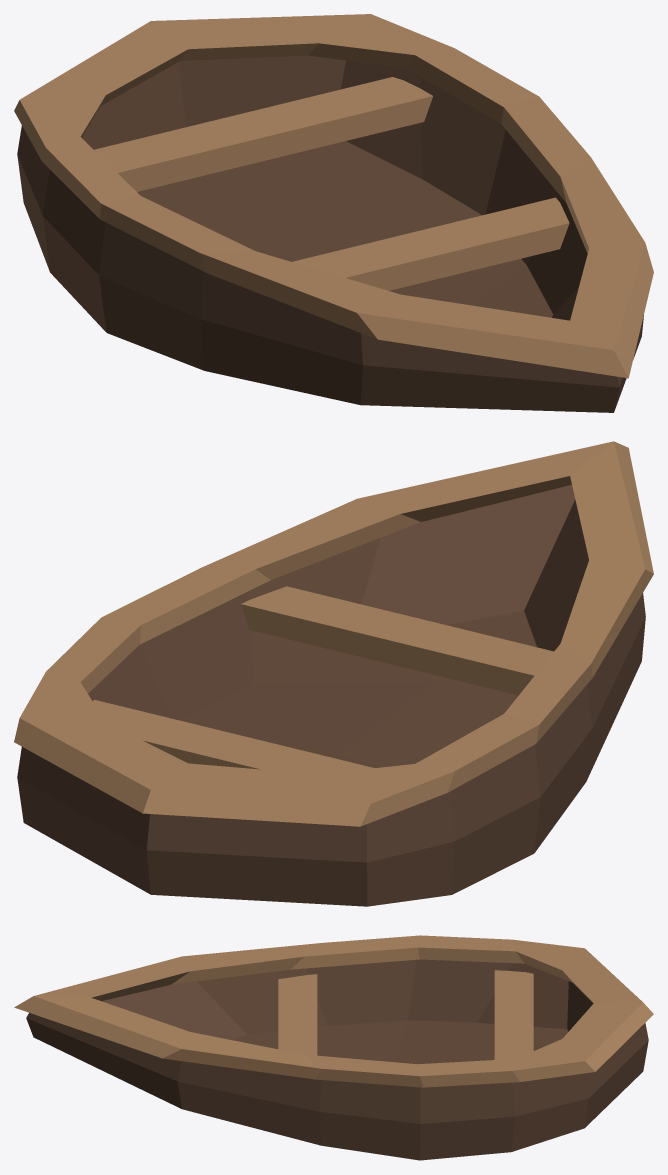
Rendered from SandalText.fbx.
The picture shows the model from 3 angles, top to bottom: view 1: azimuth 30°, elevation 25°; view 2: azimuth 150°, elevation 25°; view 3: azimuth 270°, elevation 25°; orthographic projection. The views are drawn at different scales.
Visible parts, largest first — view 1: Cube, Cube.004, Cube.002, Cube.003; view 2: Cube, Cube.004, Cube.003, Cube.002; view 3: Cube, Cube.004, Cube.002, Cube.003.
Boxes of the visible parts, x1,y1,x2,y2 form: Cube: [17, 55, 643, 412]; Cube.004: [14, 14, 653, 378]; Cube.002: [94, 77, 432, 191]; Cube.003: [292, 197, 569, 290]; Cube: [17, 485, 645, 906]; Cube.004: [14, 441, 653, 826]; Cube.003: [241, 586, 553, 695]; Cube.002: [92, 699, 374, 774]; Cube: [26, 959, 648, 1160]; Cube.004: [14, 935, 653, 1087]; Cube.002: [494, 970, 533, 1059]; Cube.003: [278, 974, 317, 1055].
Size of the model in its own units: 251 by 101 by 479.
